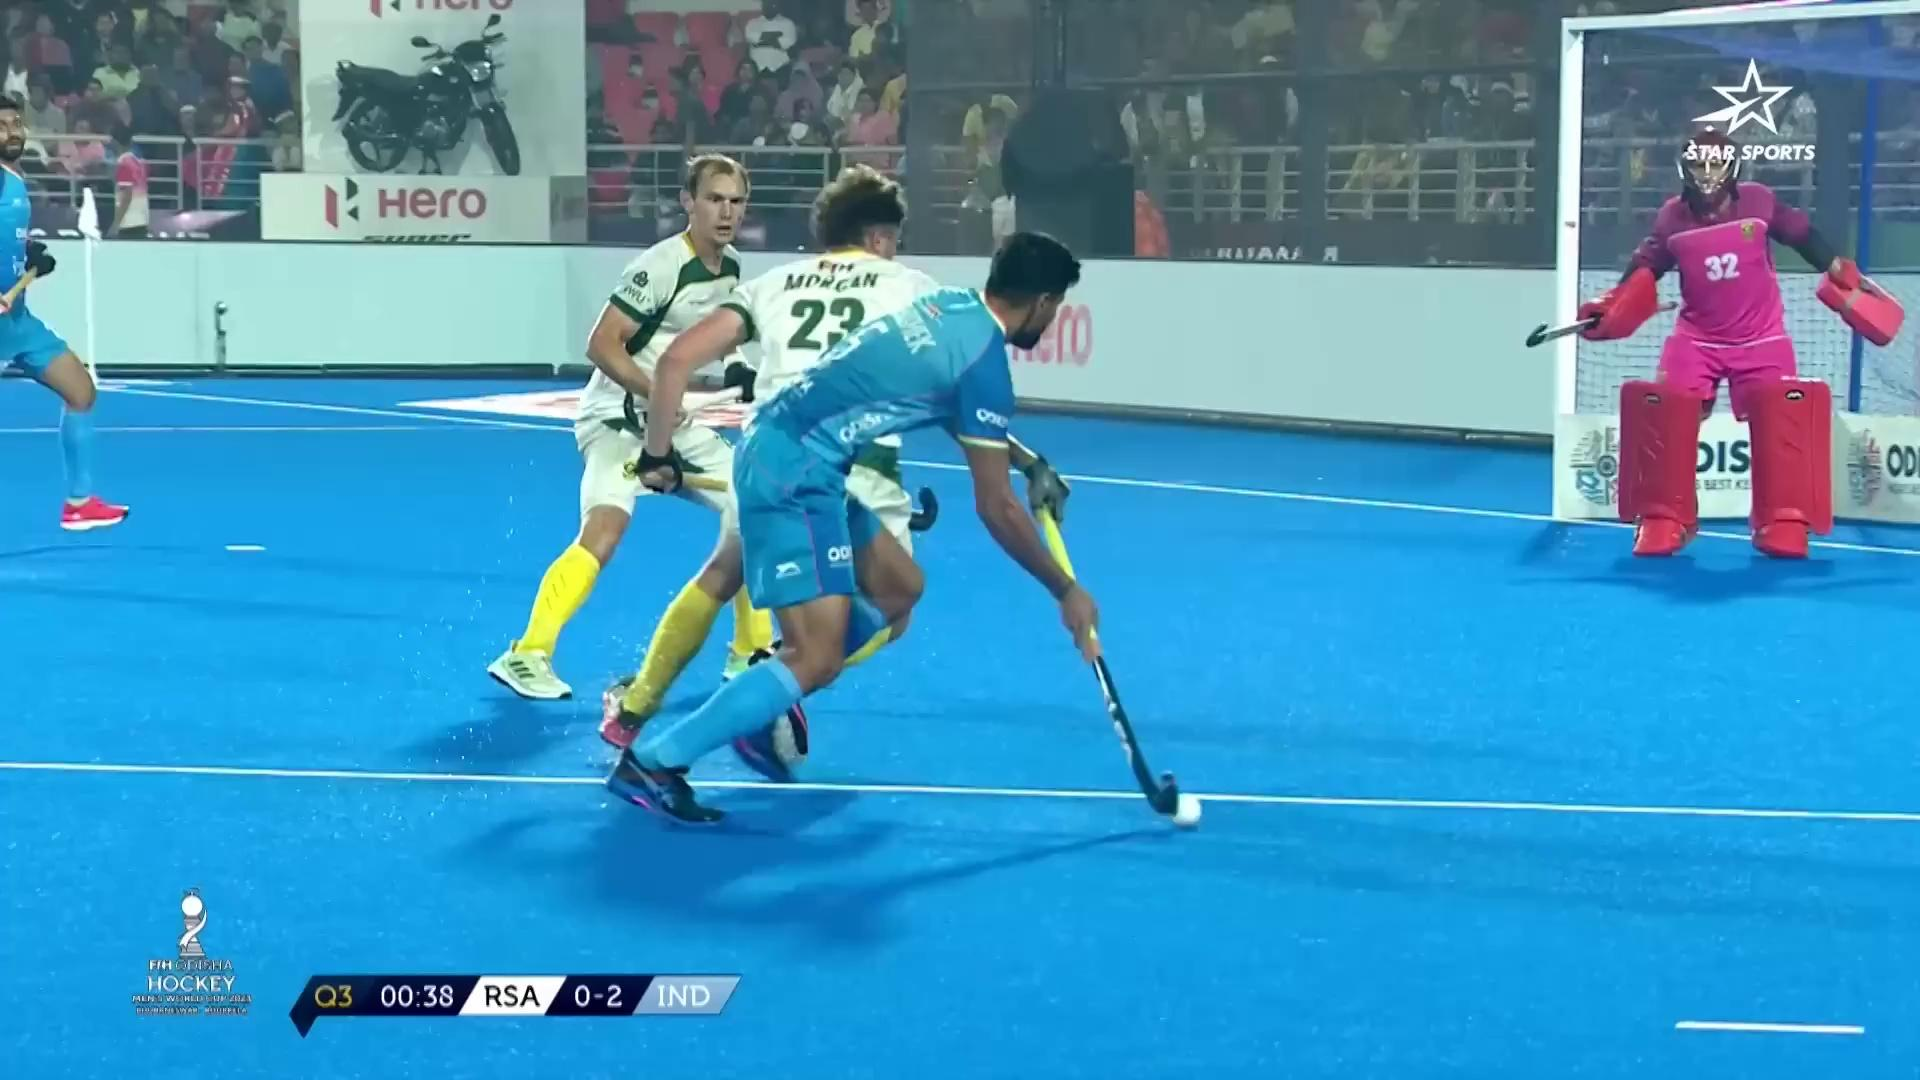ball: (1160, 782, 1205, 844)
